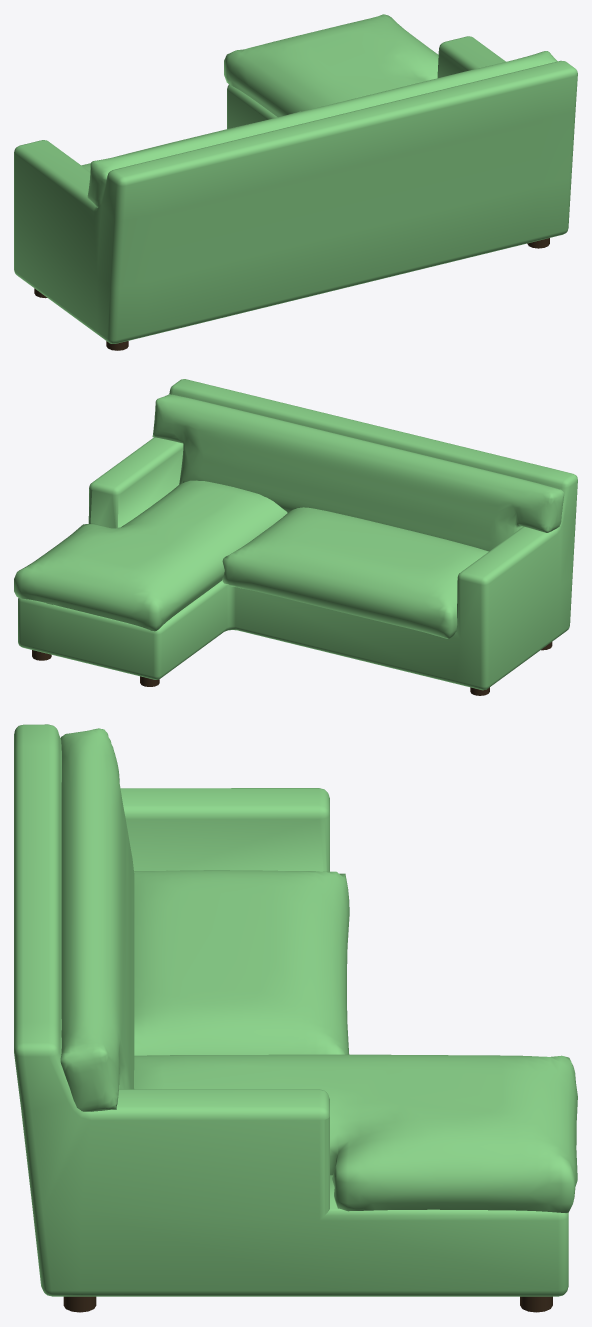
File: SideCouch.fbx
3 renders of one model, top to bottom at view 1: azimuth 30°, elevation 25°; view 2: azimuth 150°, elevation 25°; view 3: azimuth 270°, elevation 25°, orthographic. The views are drawn at different scales.
Visible parts, largest first — view 1: SideCoichFrame, LongCushion, BackCushion; view 2: SideCoichFrame, BackCushion, LongCushion, ShortCushion; view 3: SideCoichFrame, LongCushion, ShortCushion, BackCushion.
Boxes of the visible parts, left/top/right/bottom form: SideCoichFrame: left=14, top=36, right=577, bottom=350; LongCushion: left=224, top=14, right=438, bottom=117; BackCushion: left=87, top=51, right=557, bottom=207; SideCoichFrame: left=18, top=379, right=577, bottom=695; BackCushion: left=152, top=394, right=564, bottom=551; LongCushion: left=14, top=480, right=287, bottom=631; ShortCushion: left=222, top=507, right=488, bottom=638; SideCoichFrame: left=14, top=724, right=568, bottom=1312; LongCushion: left=134, top=1054, right=577, bottom=1212; ShortCushion: left=134, top=870, right=349, bottom=1055; BackCushion: left=60, top=728, right=134, bottom=1111.
Size of the model in its own units: 222 by 85.5 by 161.
